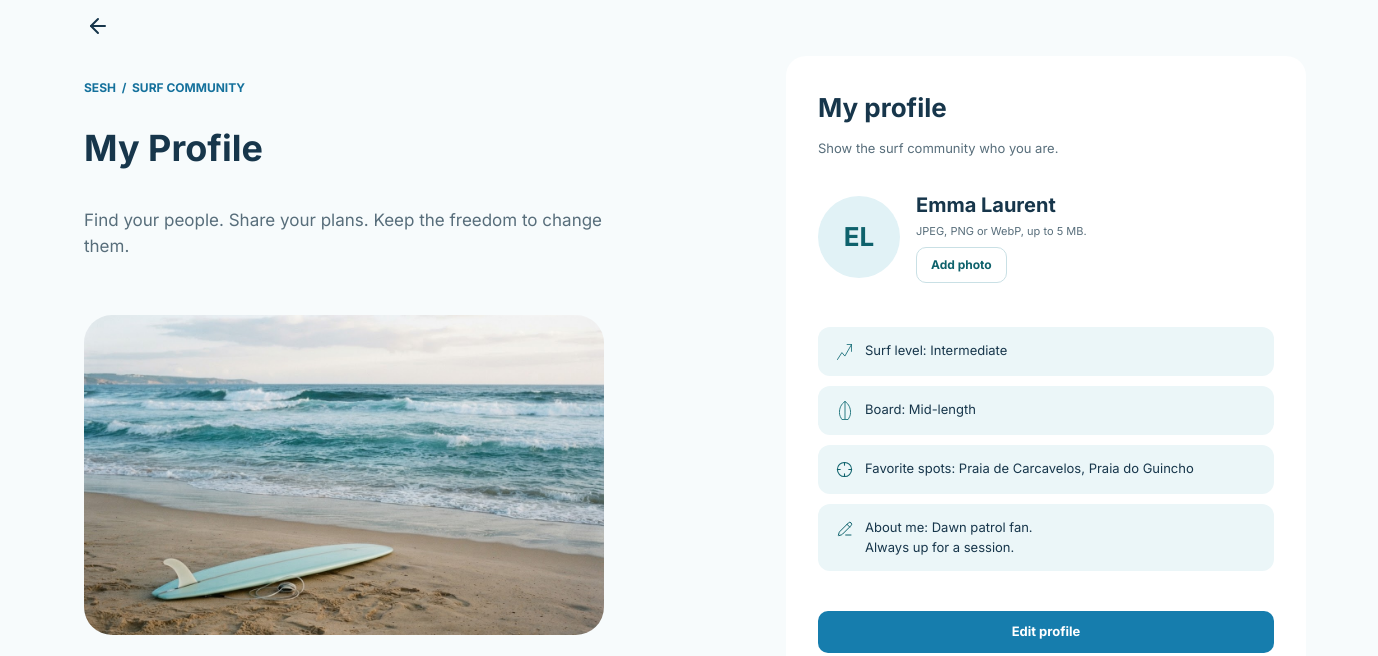
Test: Edit mode › optional fields can be cleared (sent as null / empty list)
The width and height of the screenshot is (1378, 656).
Expected: the element named "Profile details" is shown, 818,327 -> 1274,571
Click the button "Edit profile" at coordinates (1046, 632), box 818,611 -> 1274,653
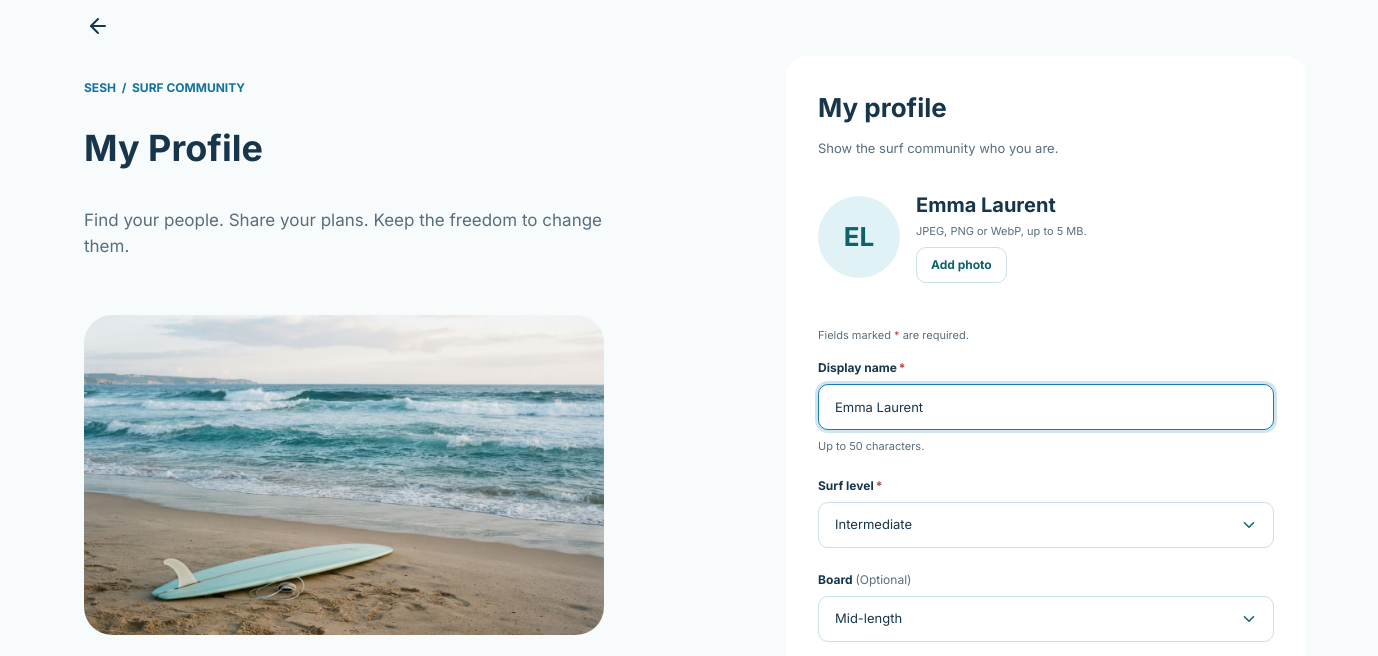
Select "No board selected" in the dropdown labelled "Board (Optional)" at coordinates (1046, 619), box 818,596 -> 1274,642
(page scrolled)
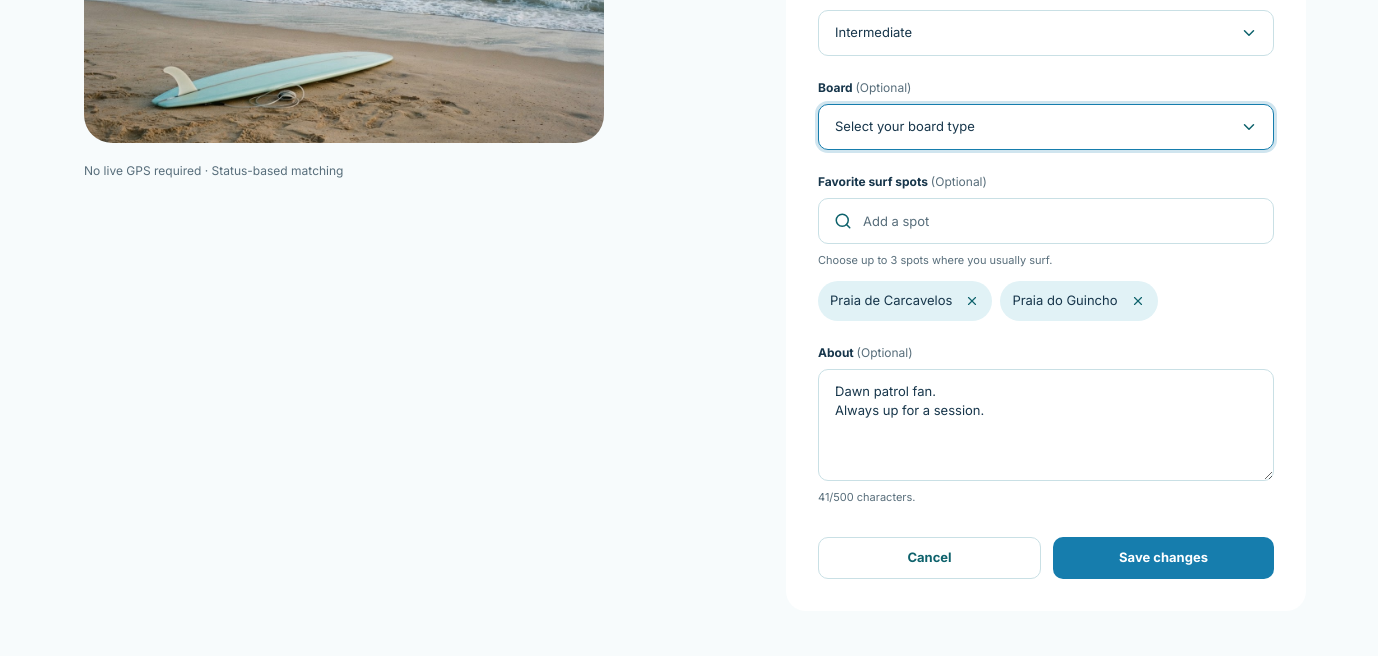
Click the button named "Remove Praia de Carcavelos" at coordinates (972, 300), box 956,284 -> 988,316
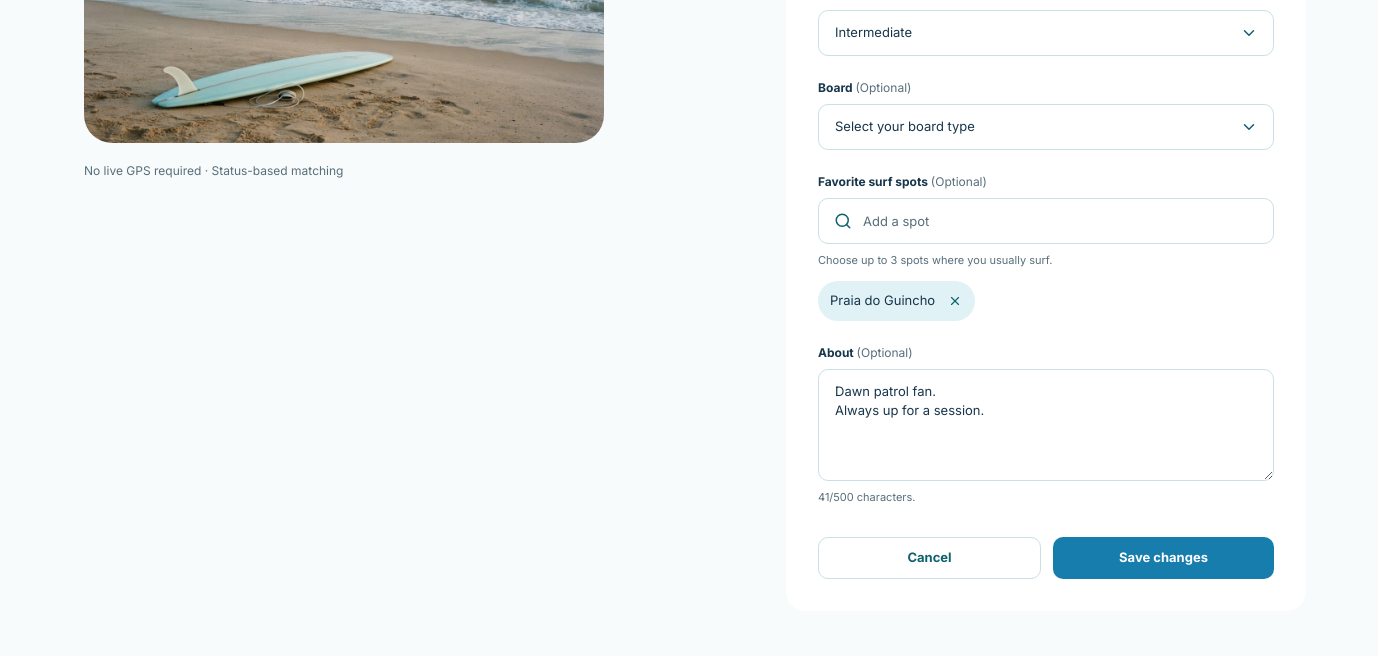
Click the button named "Remove Praia do Guincho" at coordinates (955, 300), box 939,284 -> 971,316
(page scrolled)
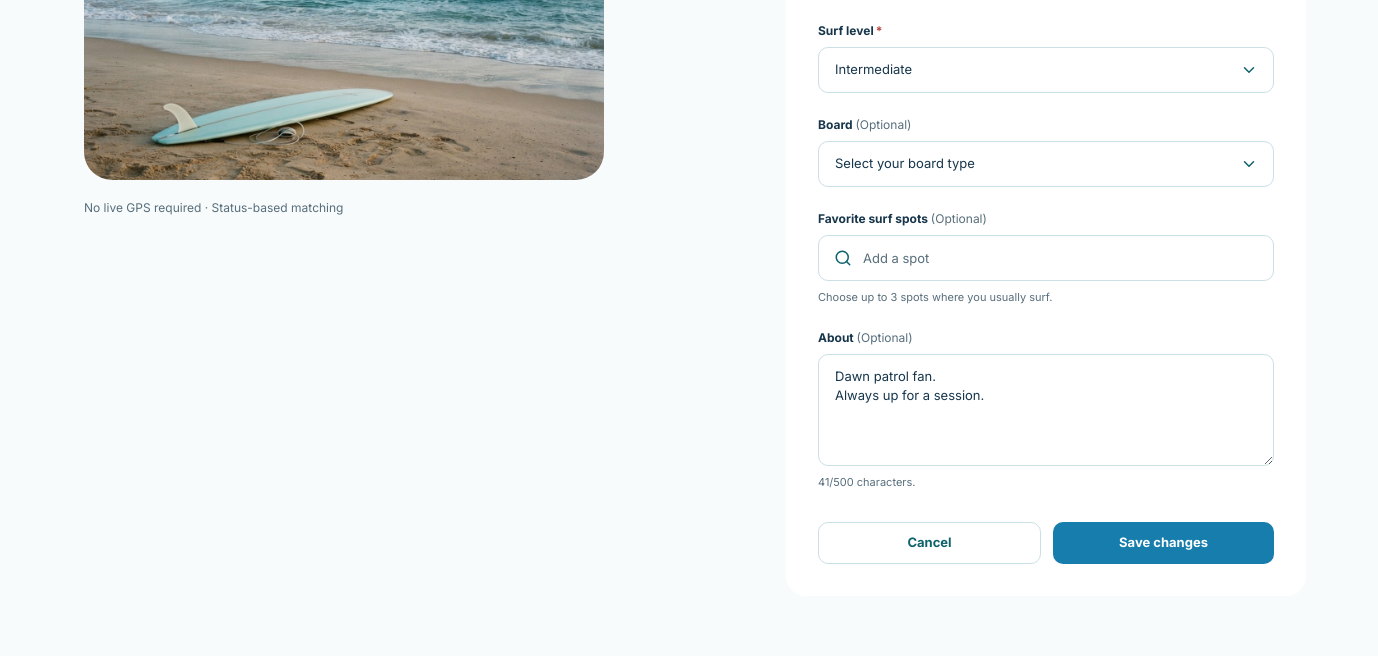
Clear the text box labelled "About (Optional)" at coordinates (1046, 410), box 818,354 -> 1274,466
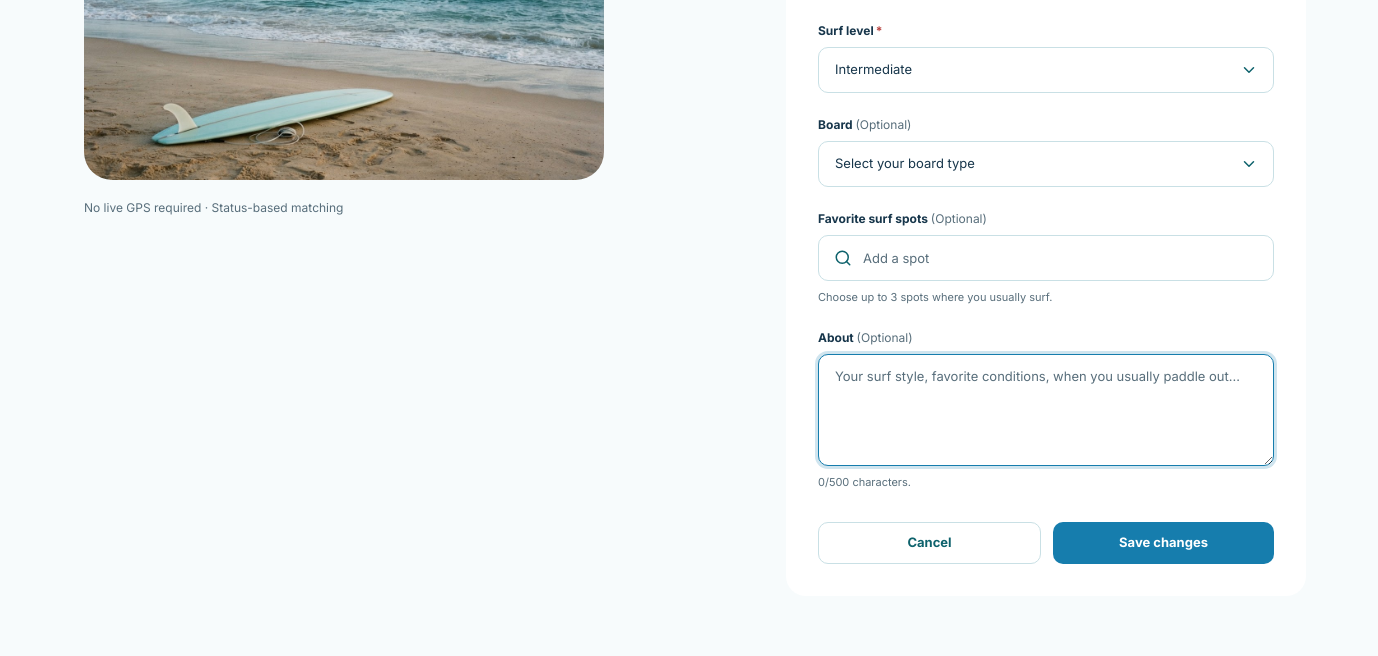
Click the submit button at coordinates (1164, 543), box 1053,522 -> 1274,564
(page scrolled)
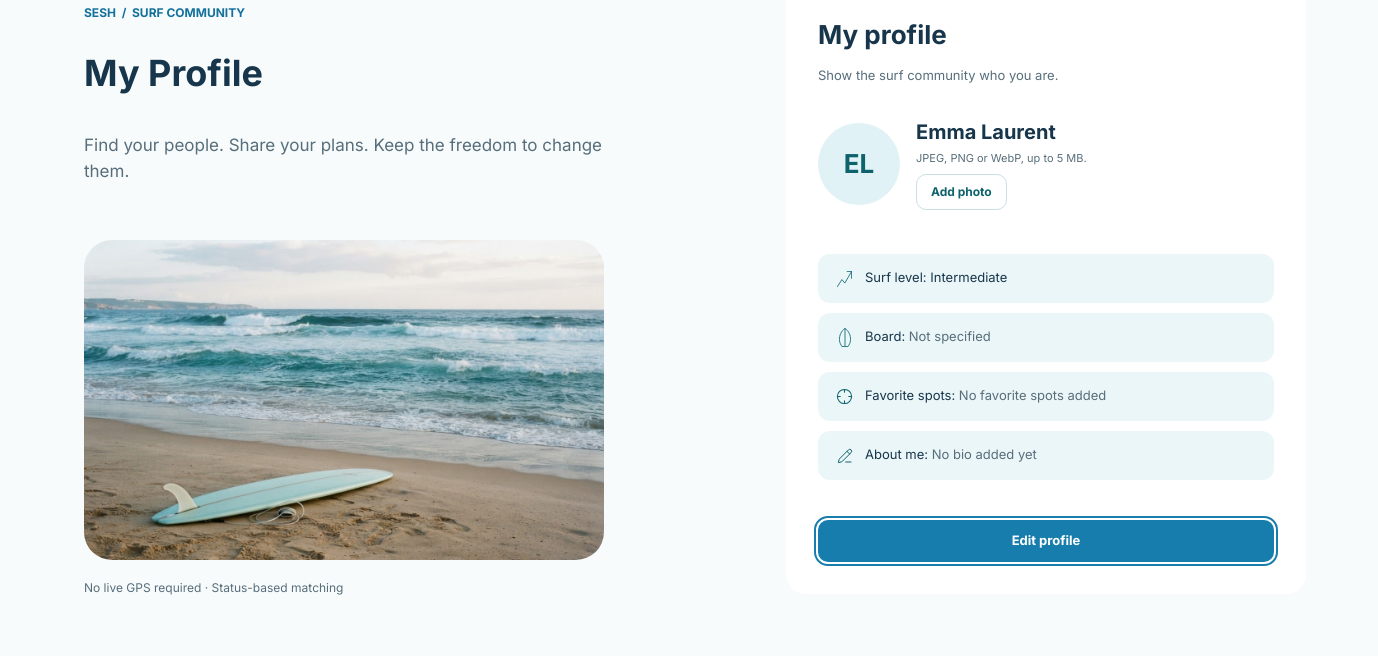
Result: the element named "Profile details" is shown at 818,254 -> 1274,480
Result: the text "Board:" reads "Board: Not specified" at 865,328 -> 991,344
